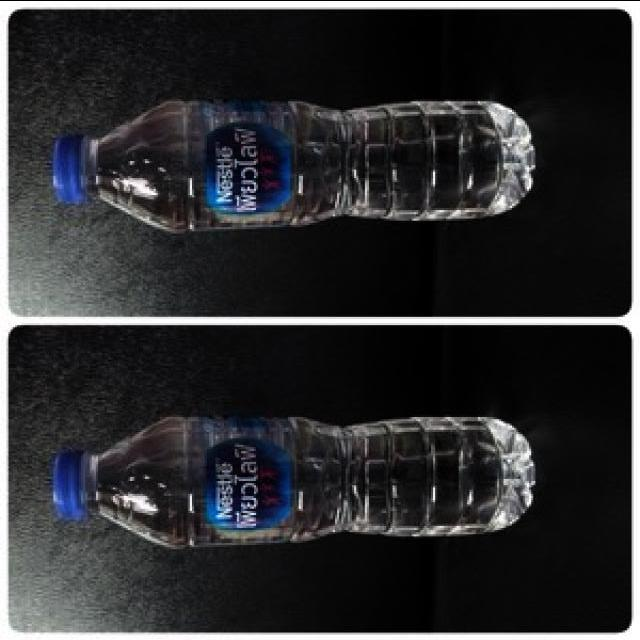cap: (50, 131, 90, 206), (56, 446, 86, 518)
label: (200, 408, 292, 548), (203, 96, 296, 232)
not-crumbled: (46, 403, 544, 552), (41, 88, 542, 228)
